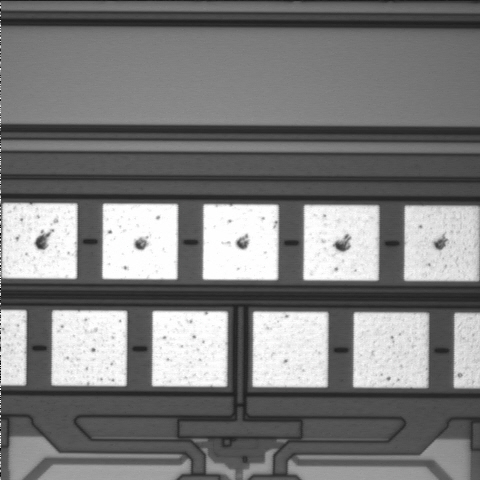pad: (102, 204, 178, 280), (203, 204, 279, 280), (303, 205, 379, 281), (152, 311, 228, 387), (353, 312, 429, 388), (2, 203, 77, 279), (52, 310, 127, 386), (252, 312, 328, 387)
